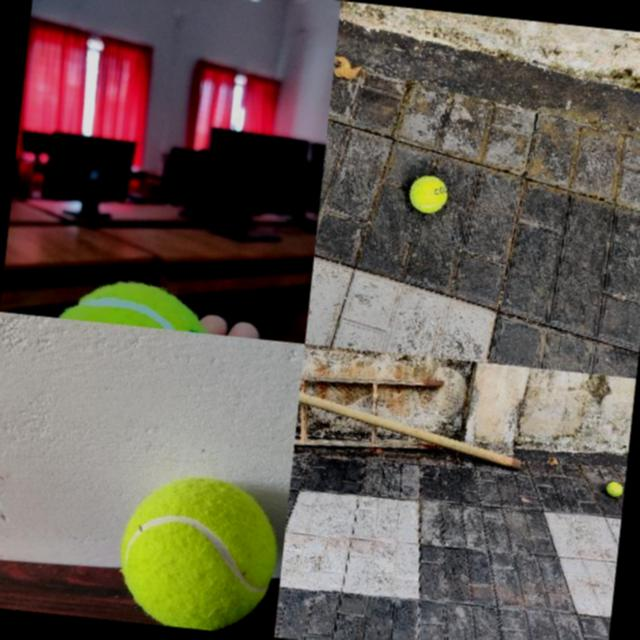tennis-ball: (112, 468, 284, 636), (43, 273, 226, 334), (407, 172, 450, 215), (606, 480, 622, 498)
